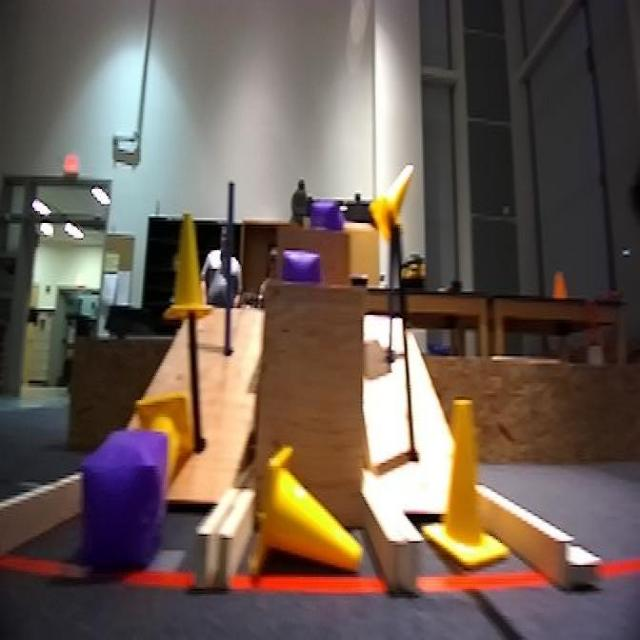frc_cone: (418, 391, 508, 567), (260, 444, 376, 572), (174, 221, 225, 330), (134, 392, 190, 482), (372, 153, 418, 242)
frc_cube: (74, 429, 162, 572), (304, 196, 339, 247), (283, 245, 317, 289)
